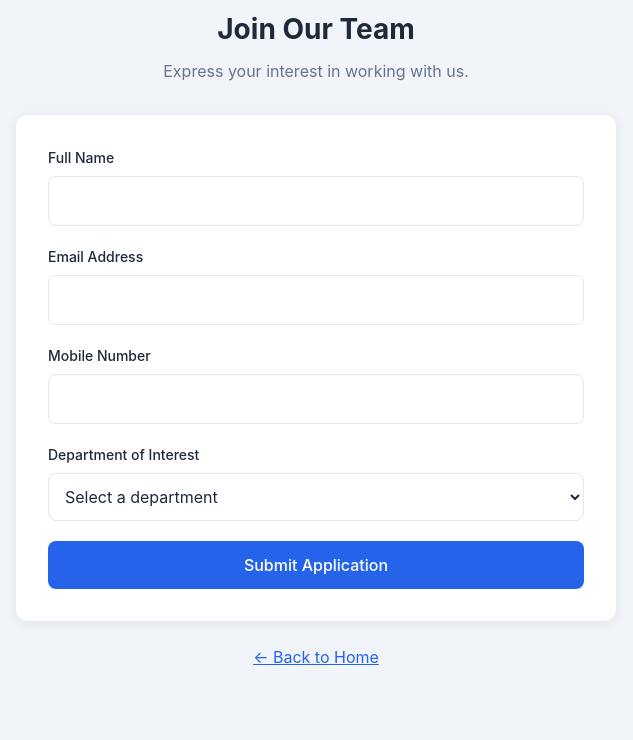
Scenario: Apply › shows all empty-field errors below associated controls without saving
This screenshot has width=633, height=740.
Click the button "Submit Application" at (316, 565), box [48,541,584,589]
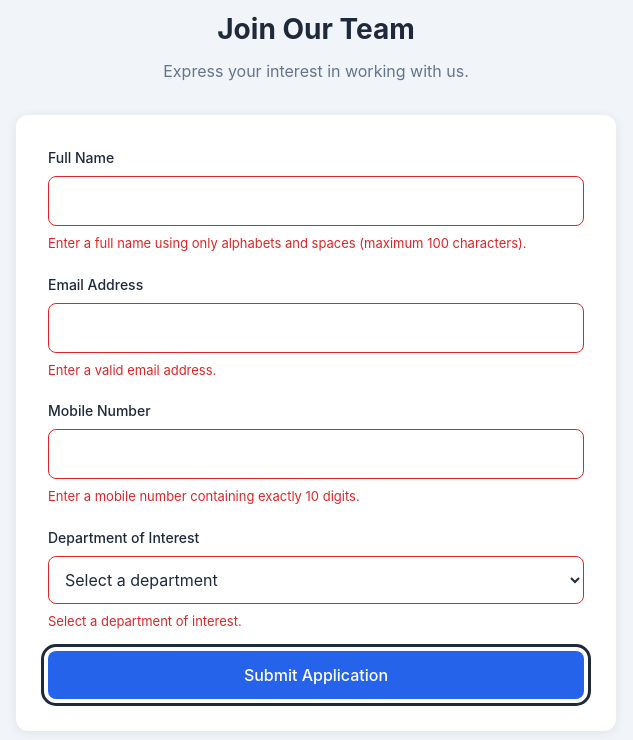
Expected: the number of messages is 4, [48,234,584,254]; [48,362,216,378]; [48,488,360,504]; [48,612,242,628]
